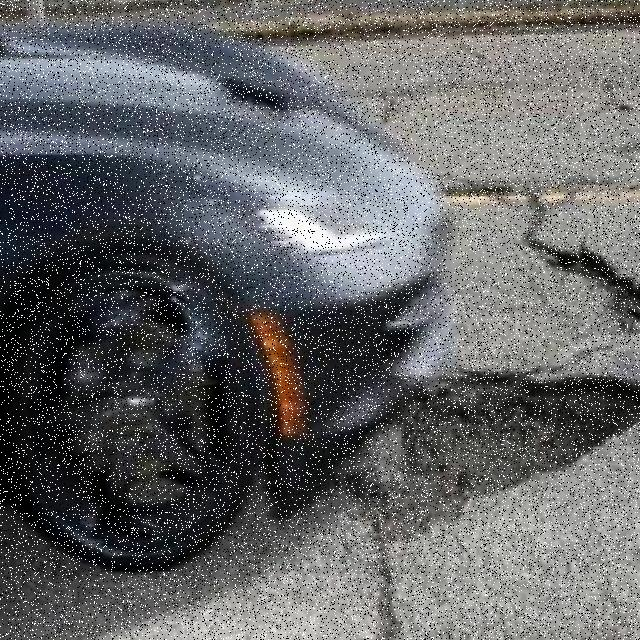pothole: (346, 376, 640, 543), (527, 239, 640, 333)
